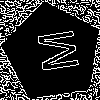M: (27, 27, 79, 76)
